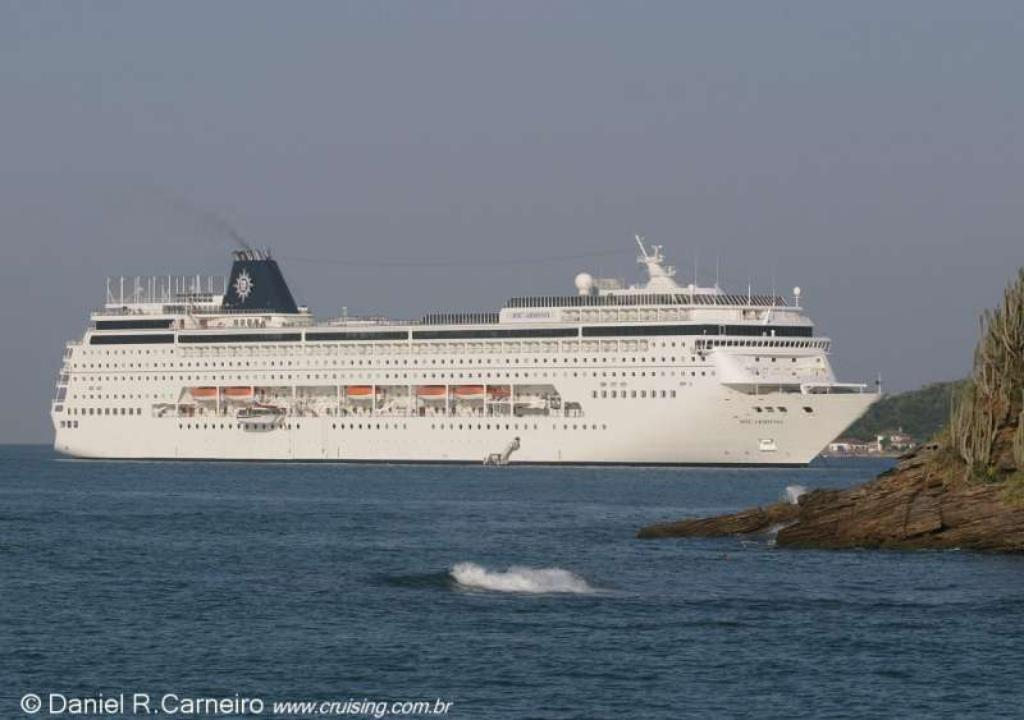PassengerShip: (44, 225, 880, 463)
